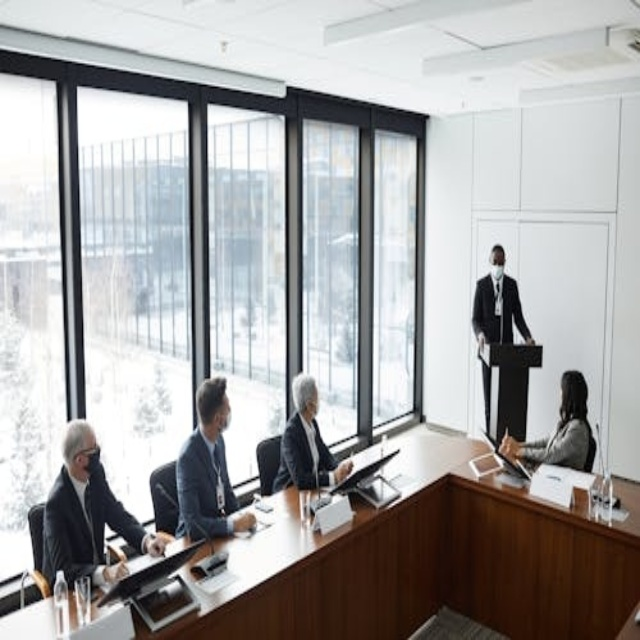Mascara: (81, 450, 101, 473), (217, 410, 231, 433), (306, 400, 319, 420), (558, 394, 568, 414), (492, 265, 504, 280)
Sin_guantes: (498, 429, 523, 462)
